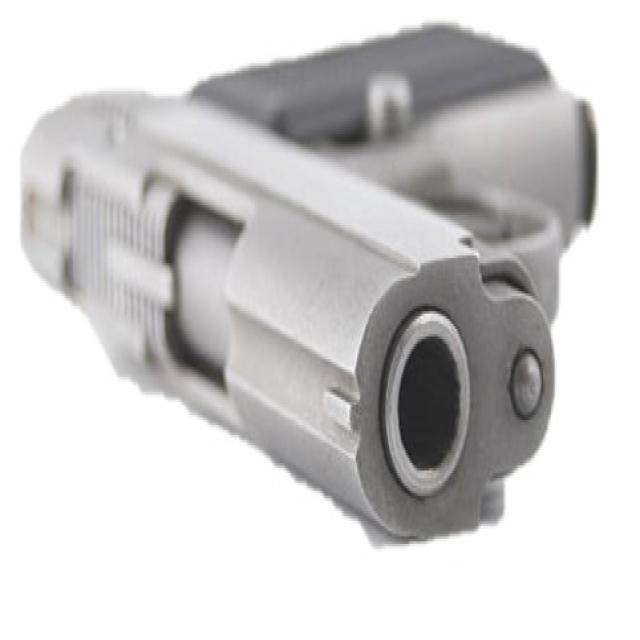pistol: (17, 13, 606, 559)
